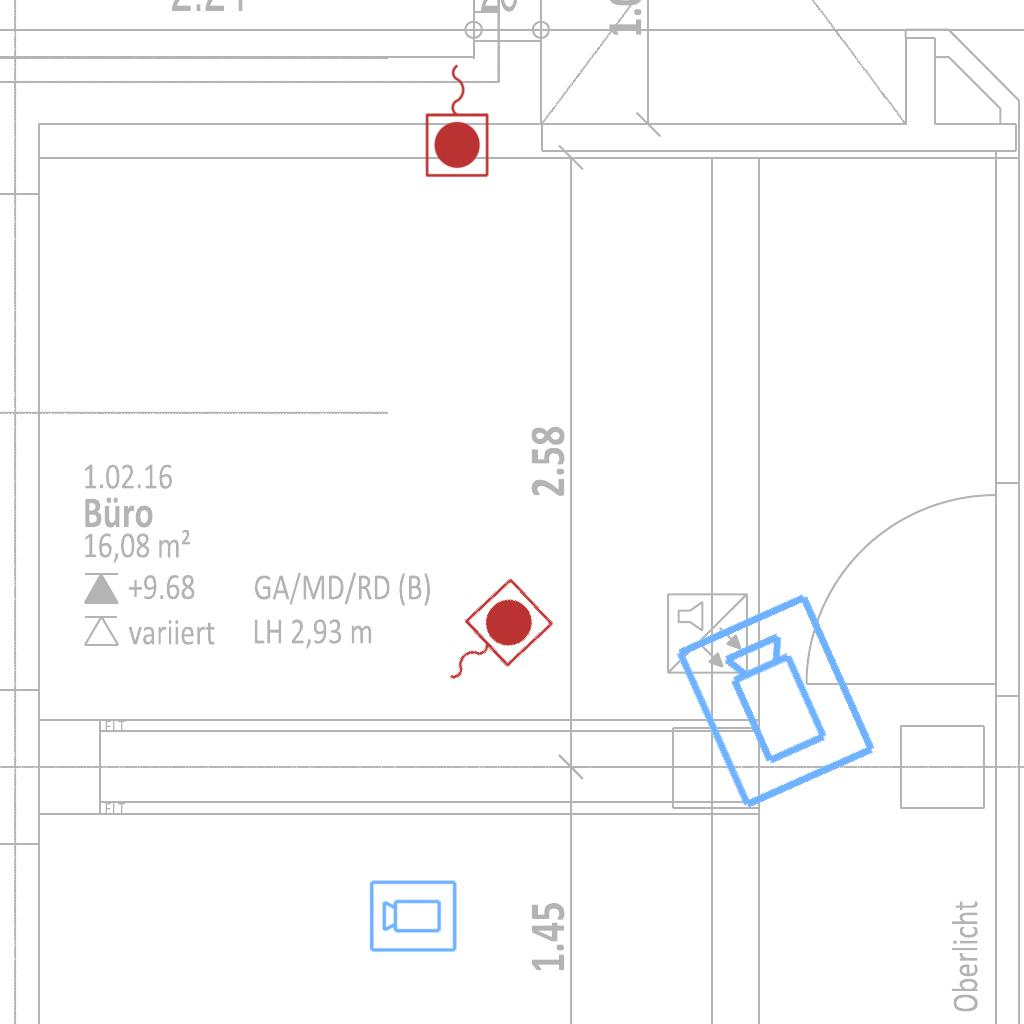KFO_Kamera_mit_Festobjektiv: (669, 586, 885, 816), (368, 877, 459, 954)
Zugtaster: (420, 571, 560, 707), (422, 59, 494, 181)
